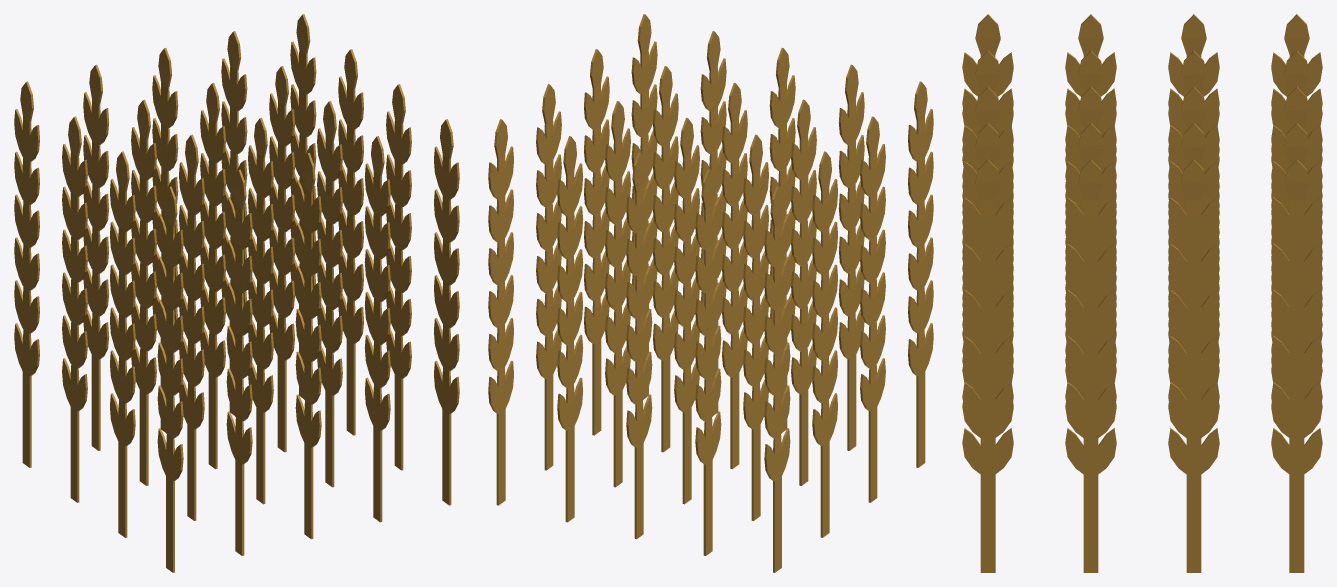
File: wheat.fbx
3 views of the same model, side by side, from view 1: azimuth 30°, elevation 25°; view 2: azimuth 150°, elevation 25°; view 3: azimuth 270°, elevation 25° (orthographic). The views are drawn at different scales.
Visible parts, largest first — view 1: wheat; view 2: wheat; view 3: wheat.
Boxes of the visible parts, box(x1,y1,x2,y2) form: wheat: box(14, 14, 459, 572); wheat: box(488, 14, 933, 572); wheat: box(962, 14, 1322, 572).
Bounding box in the file's own units: 96.5 × 127 × 101.
